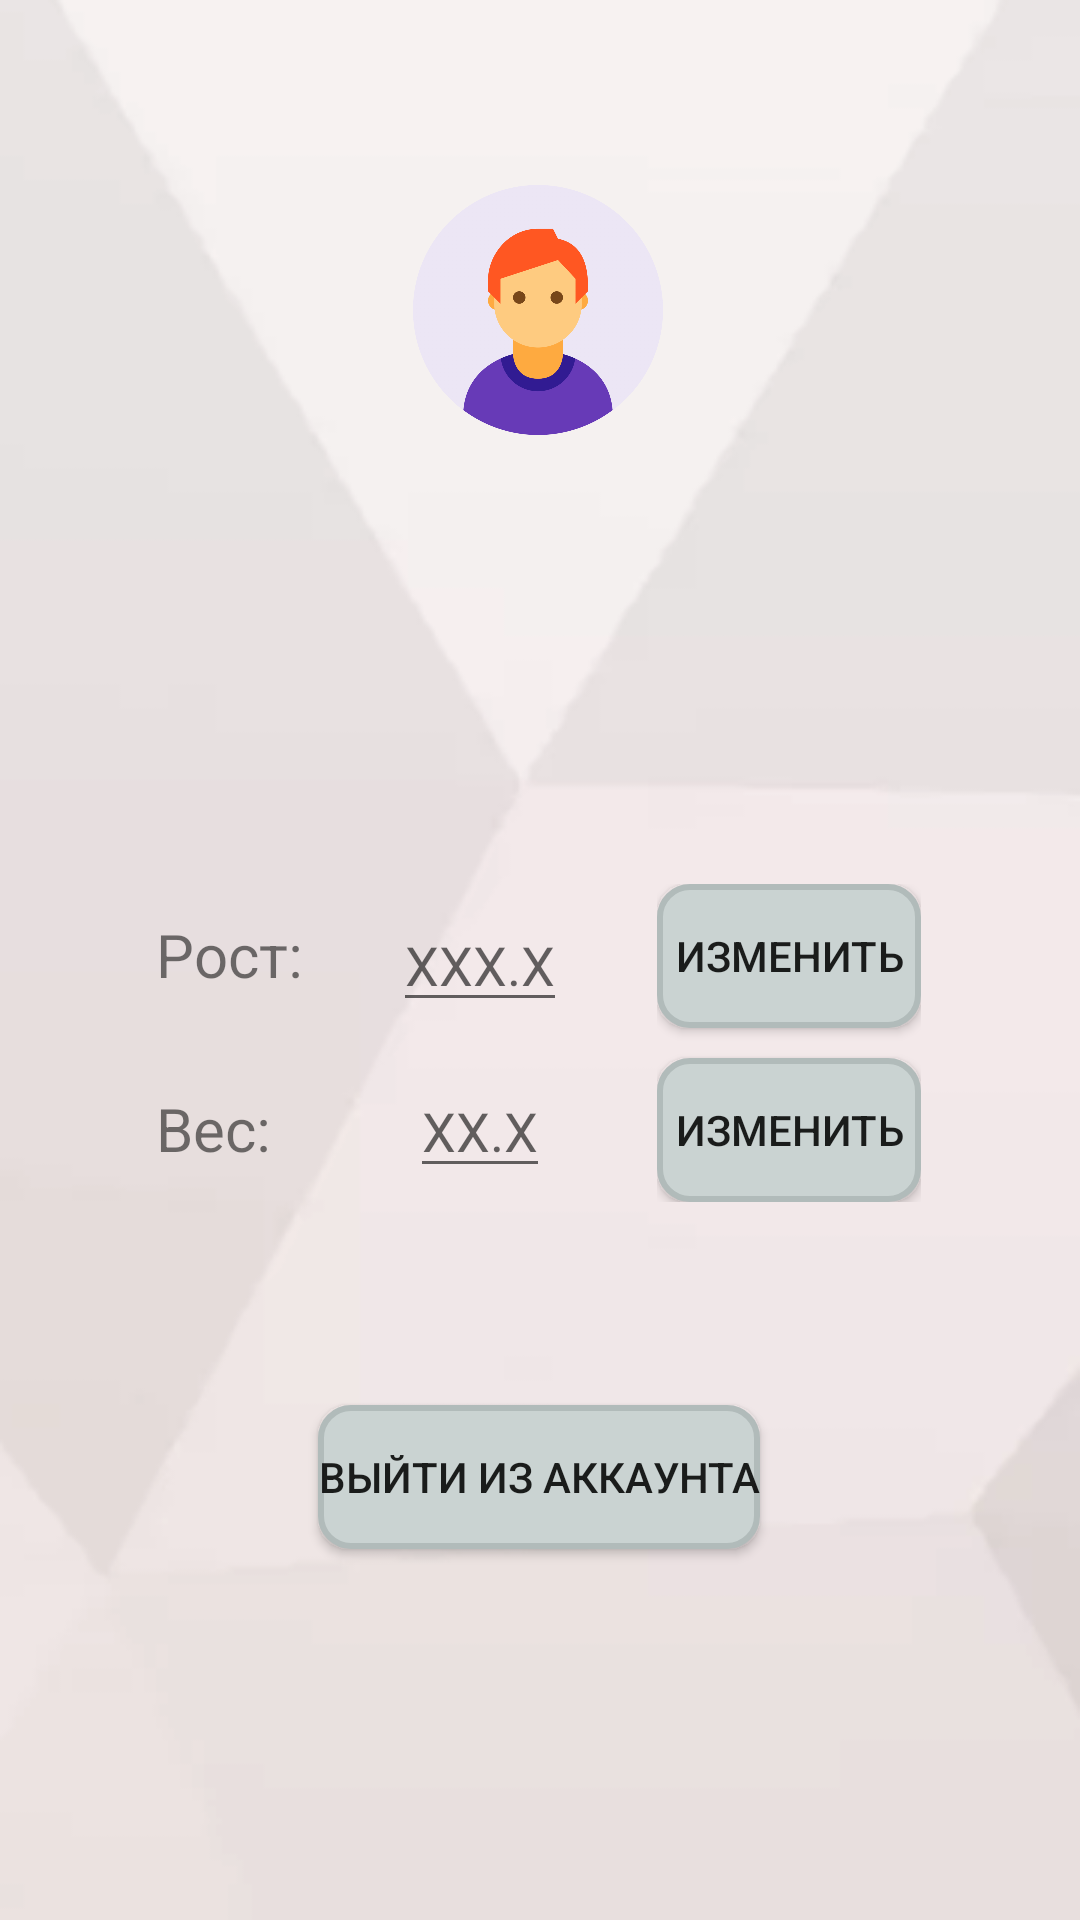

Icon bounding boxes for this 1080px x 1920px phone screenshot, format [left=x1, top=y1, right=x2, bottom=y2]:
user: [left=463, top=229, right=613, bottom=435]
